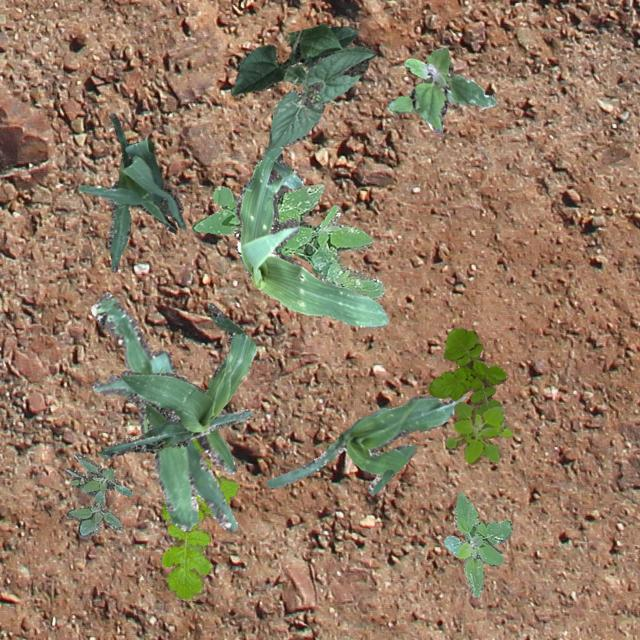crop: (90, 290, 236, 532), (235, 142, 388, 328), (97, 302, 255, 458), (266, 396, 460, 494), (78, 112, 184, 272), (268, 46, 374, 150), (230, 24, 356, 96)
weed: (192, 158, 384, 300), (160, 436, 238, 600), (386, 46, 496, 132), (442, 492, 512, 596), (428, 328, 504, 414), (64, 452, 132, 538), (444, 400, 512, 464)
